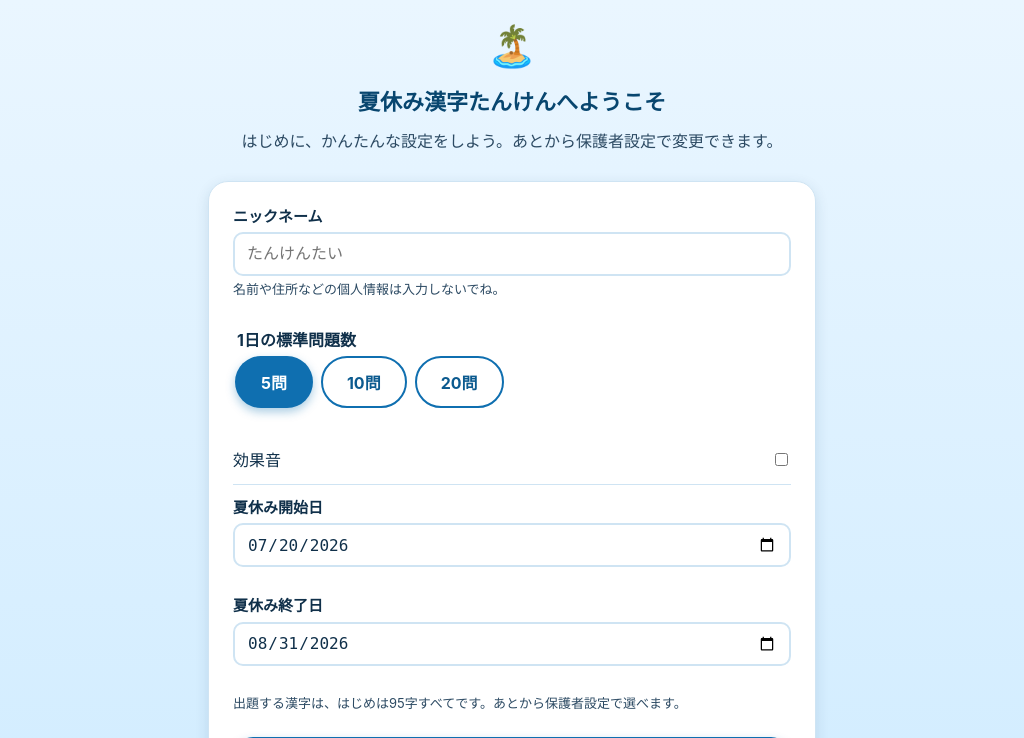
Test: App › shows the home screen after completing initial setup
Expected: the heading "夏休み漢字たんけんへようこそ" is shown, [358,88,666,117]
Type "たろう" into the field labelled "ニックネーム" at x=512, y=254, box [233,232,791,276]
(page scrolled)
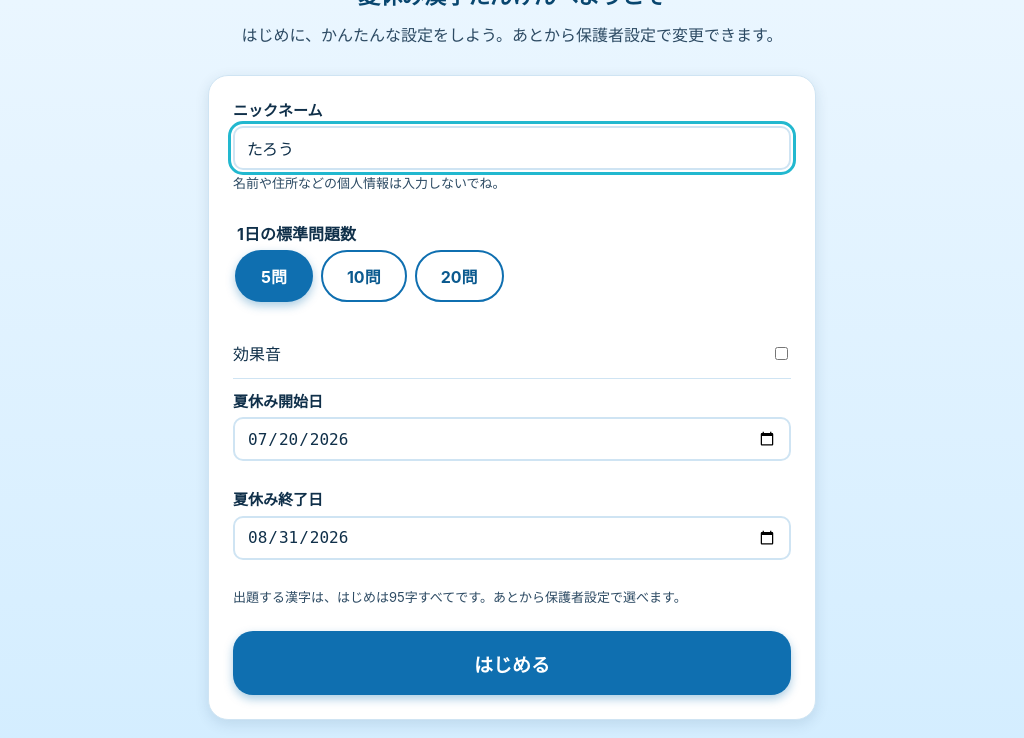
Click the button "はじめる" at x=512, y=663, box [233,631,791,695]
(page scrolled)
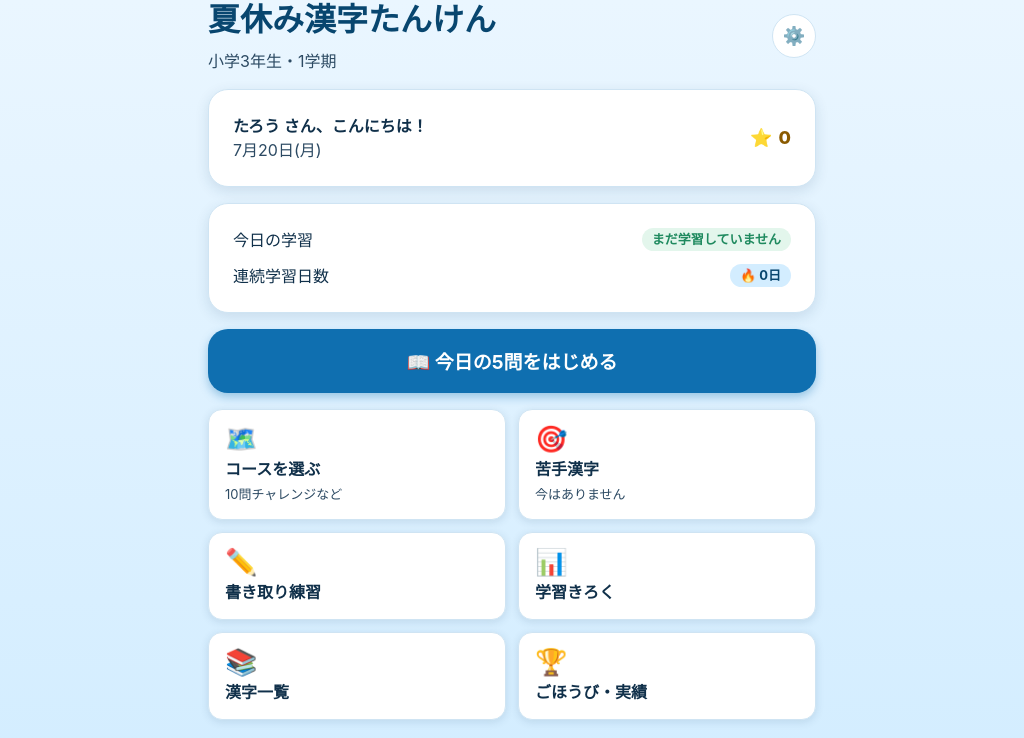
Expected: the heading "夏休み漢字たんけん" is shown, [208,0,496,41]
Result: the text "小学3年生・1学期" is shown at [208,51,336,71]
Result: the button "📖 今日の5問をはじめる" is shown at [208,329,816,393]
